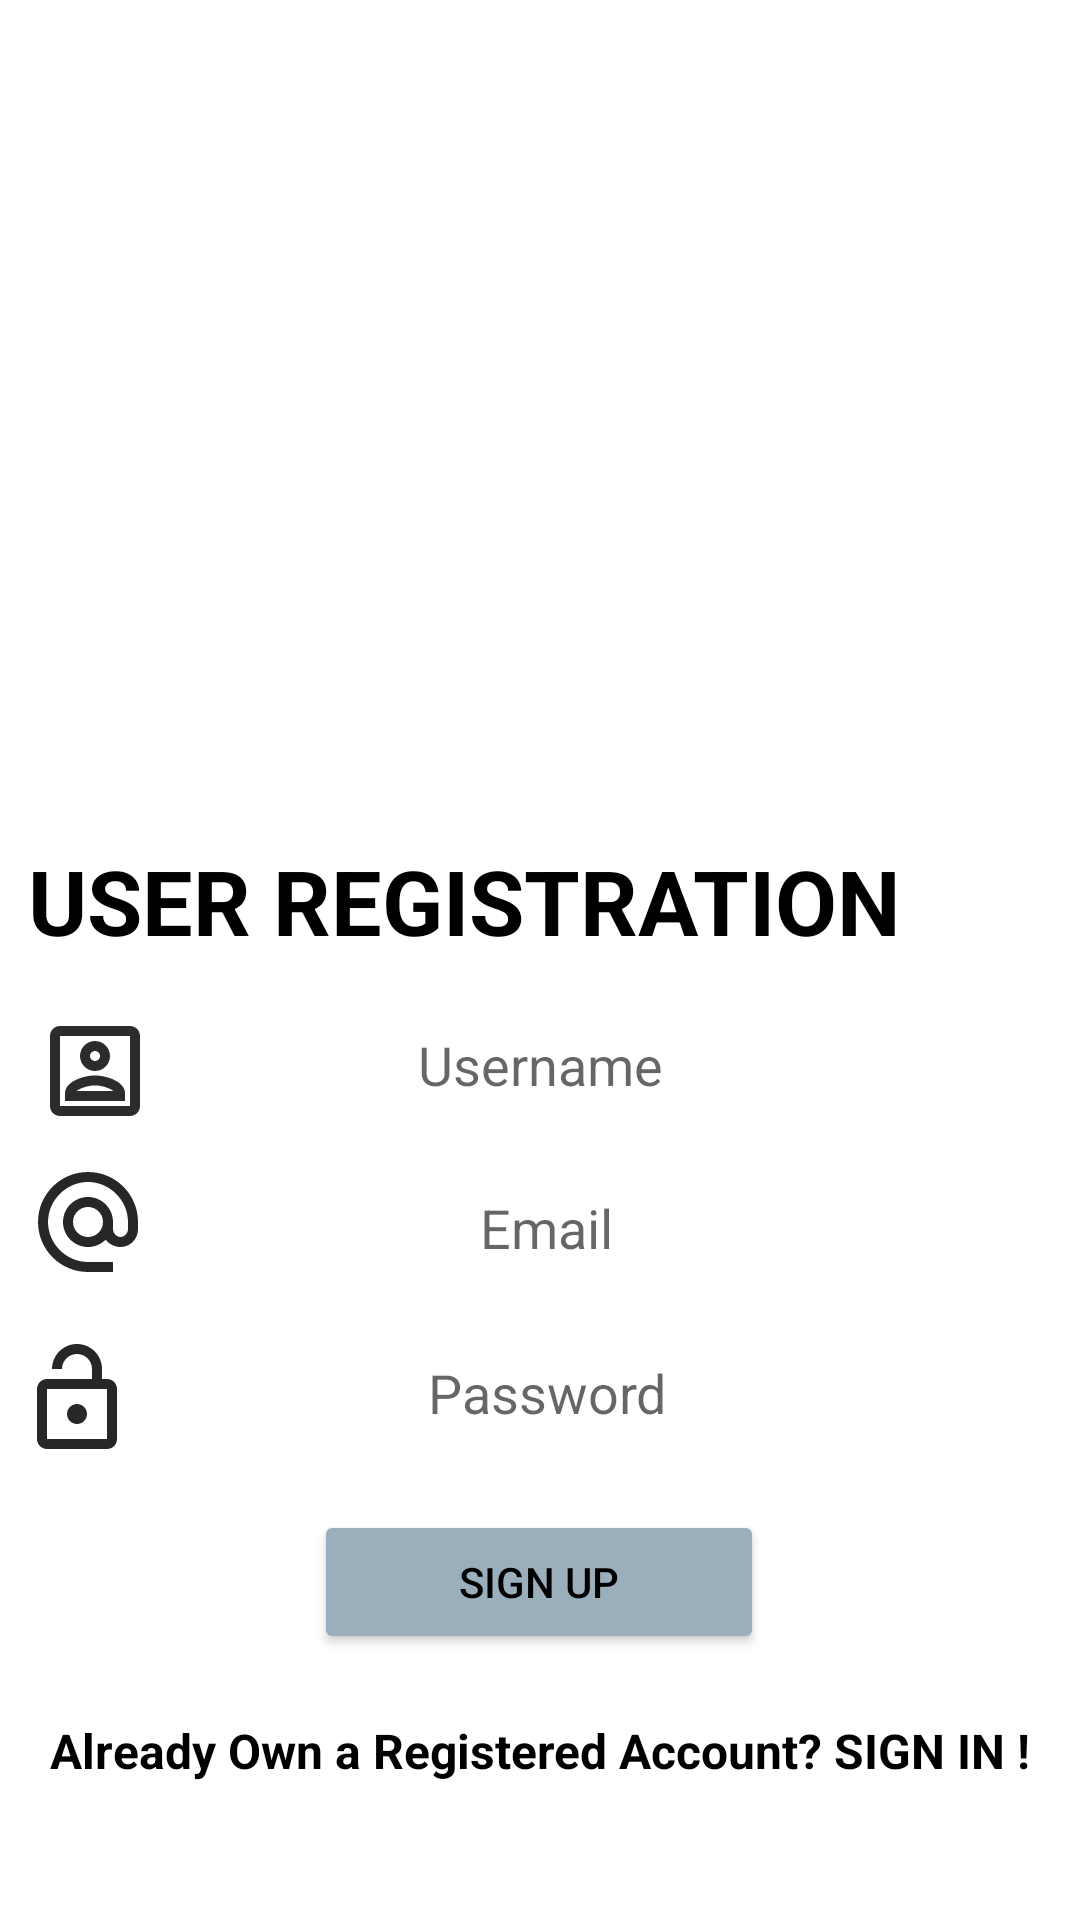

Locate icon controls on the screen. Image size 1080px×1920px, boxes as (x1, y1, x2, y2).
account box: (50, 1026, 140, 1116)
lock open: (37, 1344, 117, 1449)
